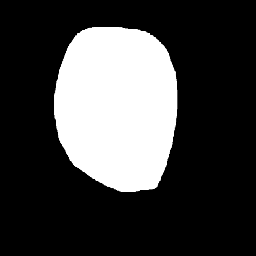mass: (53, 29, 174, 189)
